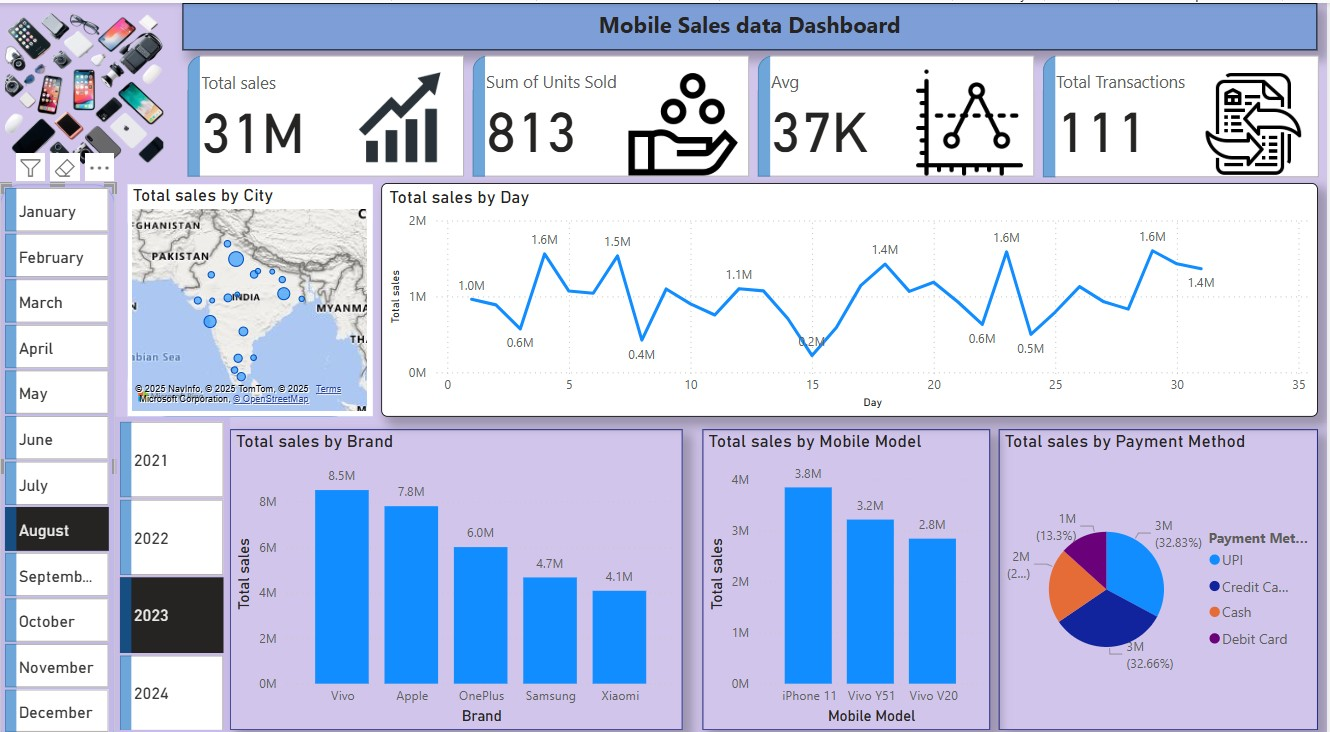

The page's visual inventory and layout, read from the dashboard file:
{"tool":"powerbi","page":{"name":"Page 1","canvas":[1280,720],"ordinal":0},"visuals":[{"type":"textbox","box":[176.1,0,1095.4,45.8],"z":0},{"type":"image","box":[0,0,162.5,162.5],"z":1000},{"type":"shape","box":[0,174.9,111,545.3],"z":2000},{"type":"shape","box":[123.1,176.1,236.5,223.2],"z":3000},{"type":"clusteredColumnChart","fields":{"Category":["Mobile Sales Data.Brand"],"Y":["Mobile Sales Data.Total sales"]},"box":[222,411.4,436.7,290.8],"z":4000},{"type":"cardVisual","fields":{"Data":["Mobile Sales Data.Total sales","Sum(Mobile Sales Data.Units Sold)","Mobile Sales Data.Avg","Mobile Sales Data.Total Transactions"]},"box":[176.1,45.8,1103.9,127.9],"z":5000},{"type":"lineChart","fields":{"Y":["Mobile Sales Data.Total sales"],"Category":["Mobile Sales Data.Date.Variation.Date Hierarchy.Month","Mobile Sales Data.Date.Variation.Date Hierarchy.Day"]},"box":[368,173.7,903.6,225.6],"z":6000},{"type":"map","fields":{"Category":["Mobile Sales Data.City"],"Size":["Mobile Sales Data.Total sales"]},"box":[123.1,174.9,236.5,224.4],"z":7000},{"type":"clusteredColumnChart","fields":{"Category":["Mobile Sales Data.Mobile Model"],"Y":["Mobile Sales Data.Total sales"]},"box":[678,411.4,277.5,290.8],"z":8000},{"type":"pieChart","fields":{"Category":["Mobile Sales Data.Payment Method","Mobile Sales Data.Mobile Model"],"Y":["Mobile Sales Data.Total sales"]},"box":[963.9,411.4,307.6,290.8],"z":9000},{"type":"advancedSlicerVisual","fields":{"Values":["Mobile Sales Data.Date.Variation.Date Hierarchy.Month"]},"box":[0,173.7,111,546.5],"z":10000},{"type":"advancedSlicerVisual","fields":{"Values":["Mobile Sales Data.Date.Variation.Date Hierarchy.Year"]},"box":[111,399.3,111,311.3],"z":11000}]}

Visuals, with their boxes in screenshot pixels (x1, y1, x2, y2):
textbox: bbox=[179, 0, 1316, 48]
image: bbox=[0, 0, 165, 169]
shape: bbox=[0, 182, 112, 731]
shape: bbox=[124, 183, 370, 414]
clusteredColumnChart - Mobile Sales Data.Brand x Mobile Sales Data.Total sales: bbox=[227, 427, 680, 729]
cardVisual - Mobile Sales Data.Total sales x Sum(Mobile Sales Data.Units Sold): bbox=[179, 48, 1325, 180]
lineChart - Mobile Sales Data.Total sales x Mobile Sales Data.Date.Variation.Date Hierarchy.Month: bbox=[378, 180, 1316, 414]
map - Mobile Sales Data.City x Mobile Sales Data.Total sales: bbox=[124, 182, 370, 414]
clusteredColumnChart - Mobile Sales Data.Mobile Model x Mobile Sales Data.Total sales: bbox=[700, 427, 988, 729]
pieChart - Mobile Sales Data.Payment Method x Mobile Sales Data.Mobile Model: bbox=[997, 427, 1316, 729]
advancedSlicerVisual - Mobile Sales Data.Date.Variation.Date Hierarchy.Month: bbox=[0, 180, 112, 731]
advancedSlicerVisual - Mobile Sales Data.Date.Variation.Date Hierarchy.Year: bbox=[112, 414, 227, 731]
